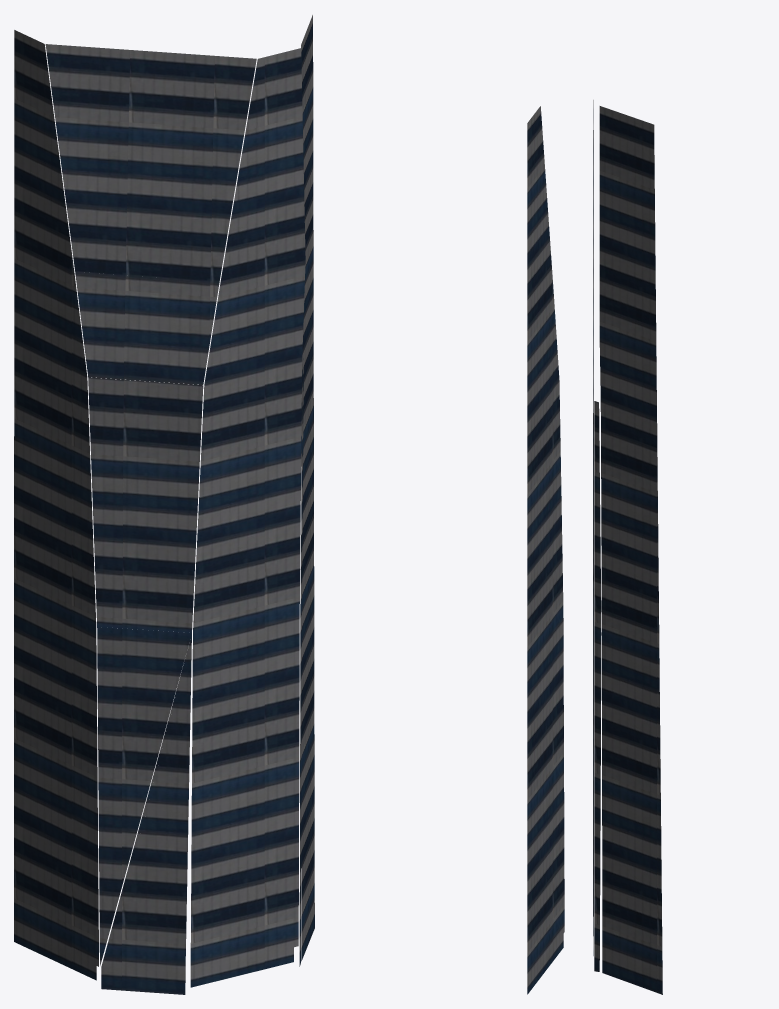
3 renders of one model, left to right at view 1: azimuth 30°, elevation 25°; view 2: azimuth 150°, elevation 25°; view 3: azimuth 270°, elevation 25°, orthographic. The views are drawn at different scales.
Size of the model in its own units: 34.86 by 124 by 22.28.
Materials: 1 (1 with a texture image).
